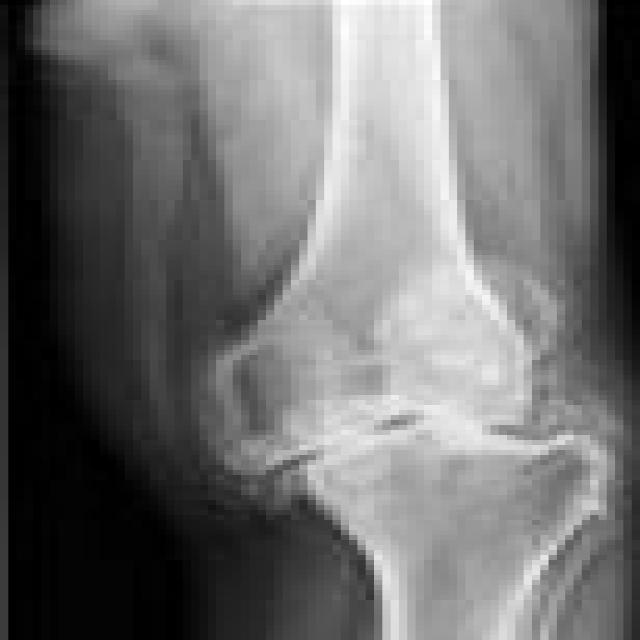Hairline: (210, 388, 520, 514)
